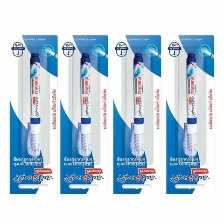correction_fluid: (178, 49, 201, 162), (127, 50, 148, 161), (23, 50, 44, 161), (74, 50, 93, 160)
